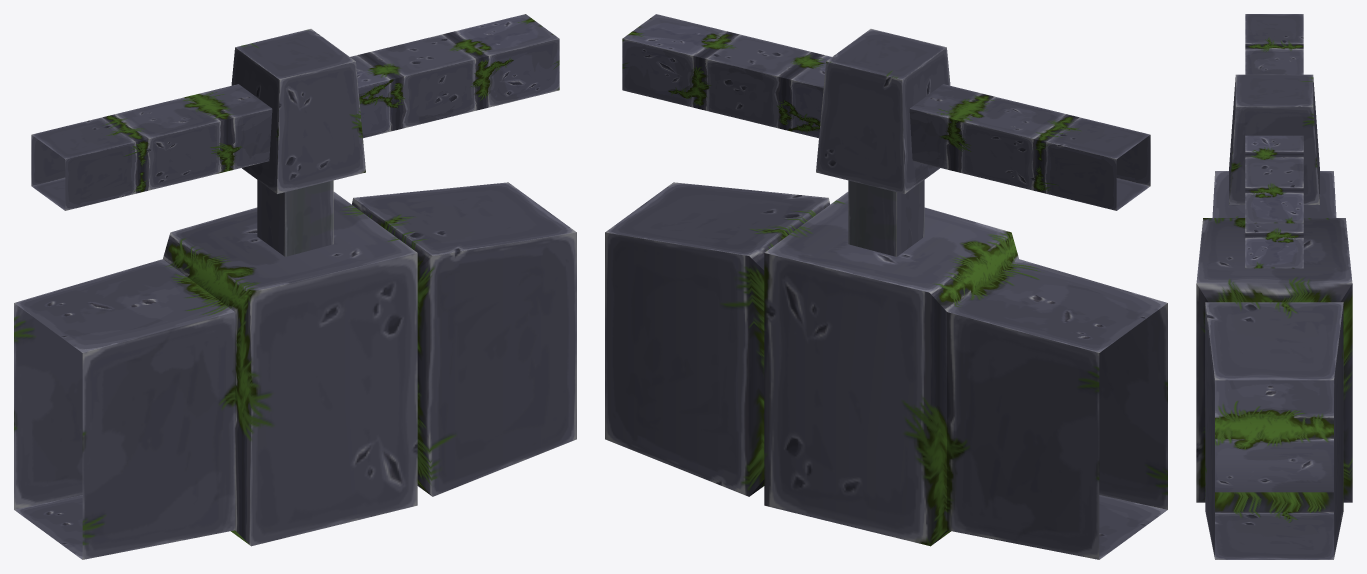
Rendered from MOD_Railing_01_straight_half.fbx.
The picture shows the model from 3 angles, left to right: view 1: azimuth 30°, elevation 25°; view 2: azimuth 150°, elevation 25°; view 3: azimuth 270°, elevation 25°; orthographic projection. The views are drawn at different scales.
Visible parts, largest first — view 1: MOD_Railing_01_straight_half; view 2: MOD_Railing_01_straight_half; view 3: MOD_Railing_01_straight_half.
Boxes of the visible parts, x1,y1,x2,y2 form: MOD_Railing_01_straight_half: [14, 14, 576, 559]; MOD_Railing_01_straight_half: [605, 14, 1167, 559]; MOD_Railing_01_straight_half: [1196, 14, 1352, 559].
Size of the model in its own units: 200 by 171 by 62.99.
